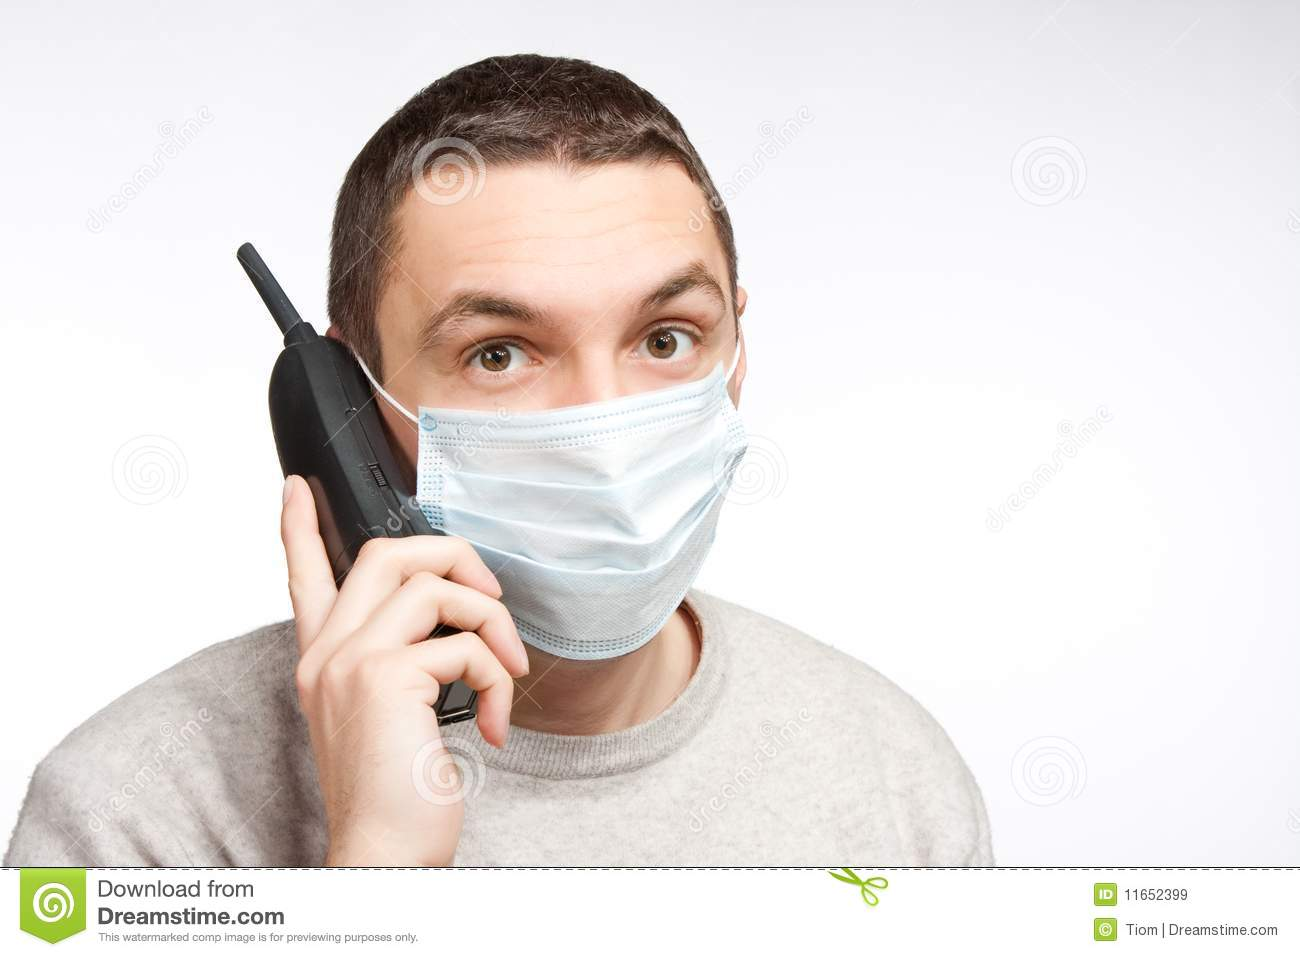mask: (414, 388, 745, 662)
